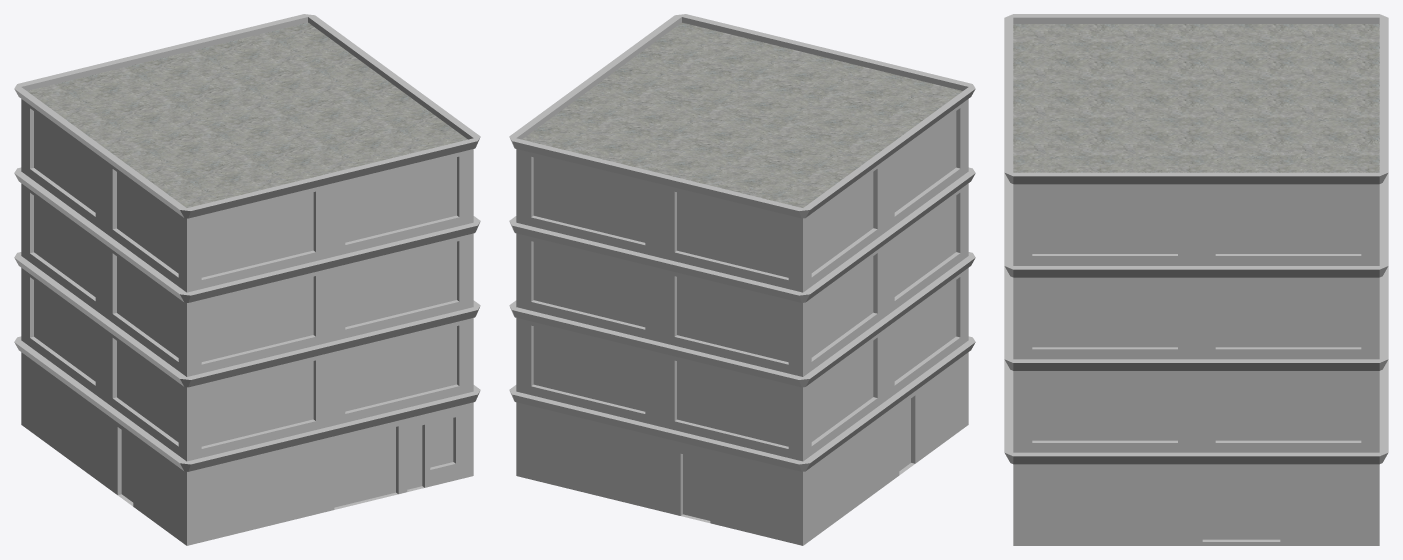
The model's file is RV_Building_Type_B_07.fbx.
The picture shows the model from 3 angles, left to right: view 1: azimuth 30°, elevation 25°; view 2: azimuth 150°, elevation 25°; view 3: azimuth 270°, elevation 25°; orthographic projection. The views are drawn at different scales.
Parts seen in each view (by area): view 1: RV_Building_Type_B_07; view 2: RV_Building_Type_B_07; view 3: RV_Building_Type_B_07.
Part boxes in pixels (bbox=[...]): RV_Building_Type_B_07: bbox=[14, 14, 480, 545]; RV_Building_Type_B_07: bbox=[509, 14, 975, 545]; RV_Building_Type_B_07: bbox=[1004, 14, 1388, 545].
Bounding box in the file's own units: 1074 × 1152 × 1074.
